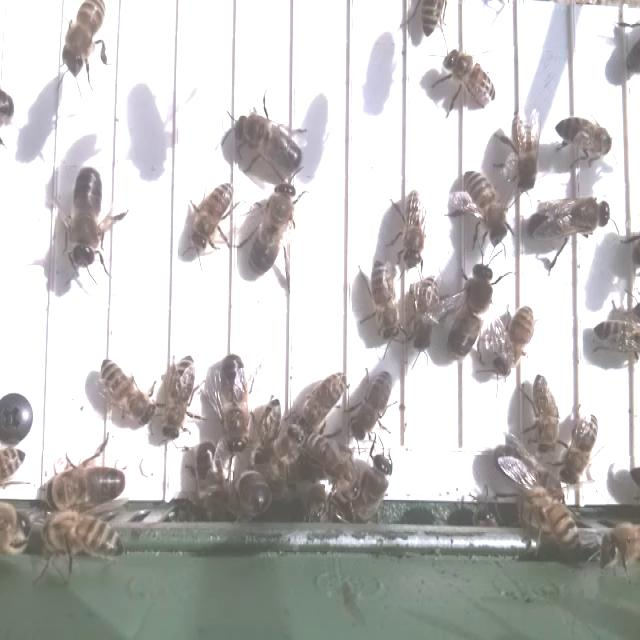Drone: (524, 191, 614, 253), (444, 258, 495, 363), (246, 178, 298, 278), (233, 111, 304, 178), (67, 160, 105, 273), (44, 460, 128, 508), (218, 351, 252, 460)
Worker: (100, 355, 157, 427), (350, 364, 398, 448), (161, 348, 199, 447), (559, 402, 602, 489), (463, 171, 509, 252), (189, 179, 235, 258), (492, 300, 536, 381), (443, 48, 501, 107), (550, 112, 616, 162), (304, 363, 351, 432), (506, 111, 544, 191), (408, 268, 441, 360), (530, 370, 562, 461), (367, 262, 399, 349), (398, 183, 427, 271), (588, 314, 640, 354)
